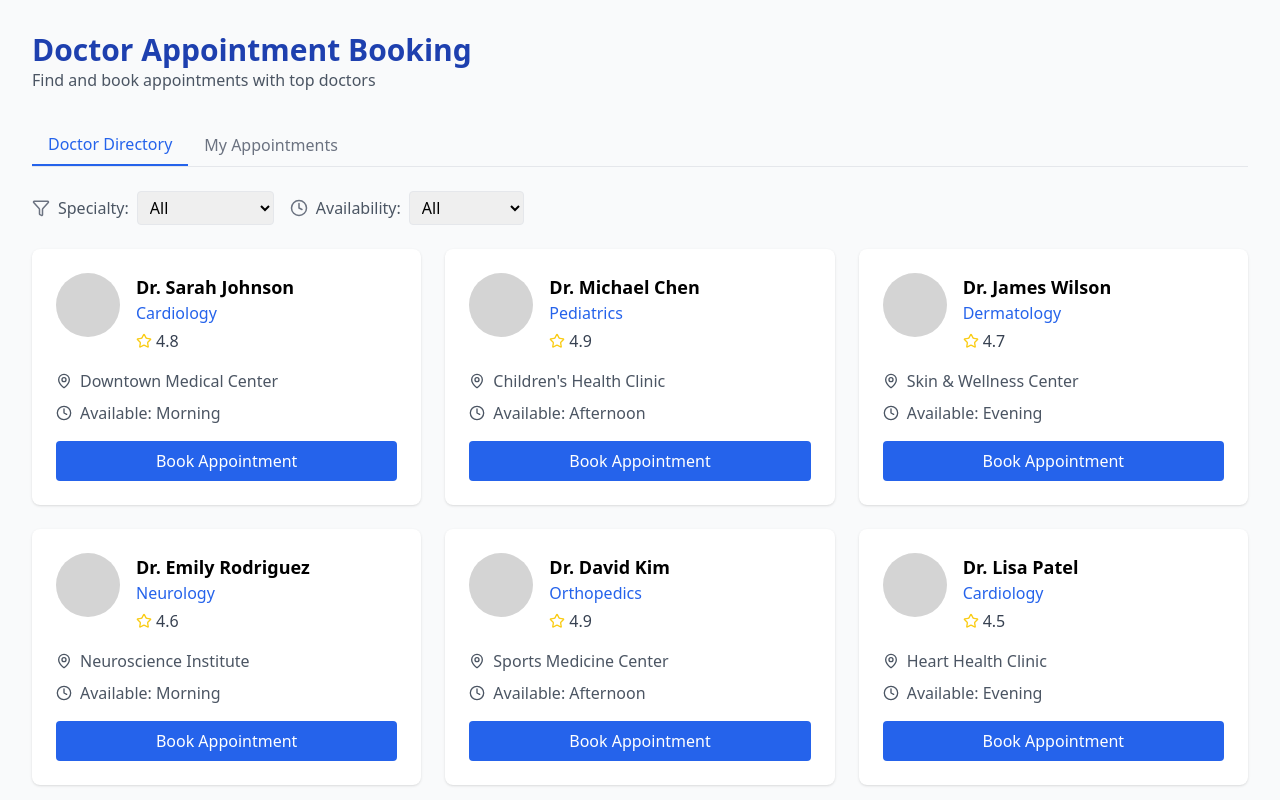
Test case: Doctor Appointment Booking App with Enhanced Zustand Store › Component Integration with Store › should handle the complete appointment booking flow
The image size is (1280, 800).
// Book with Dr. Sarah Johnson
Click the button with aria-label "book appointment with": (227, 461) [56, 441, 397, 481]
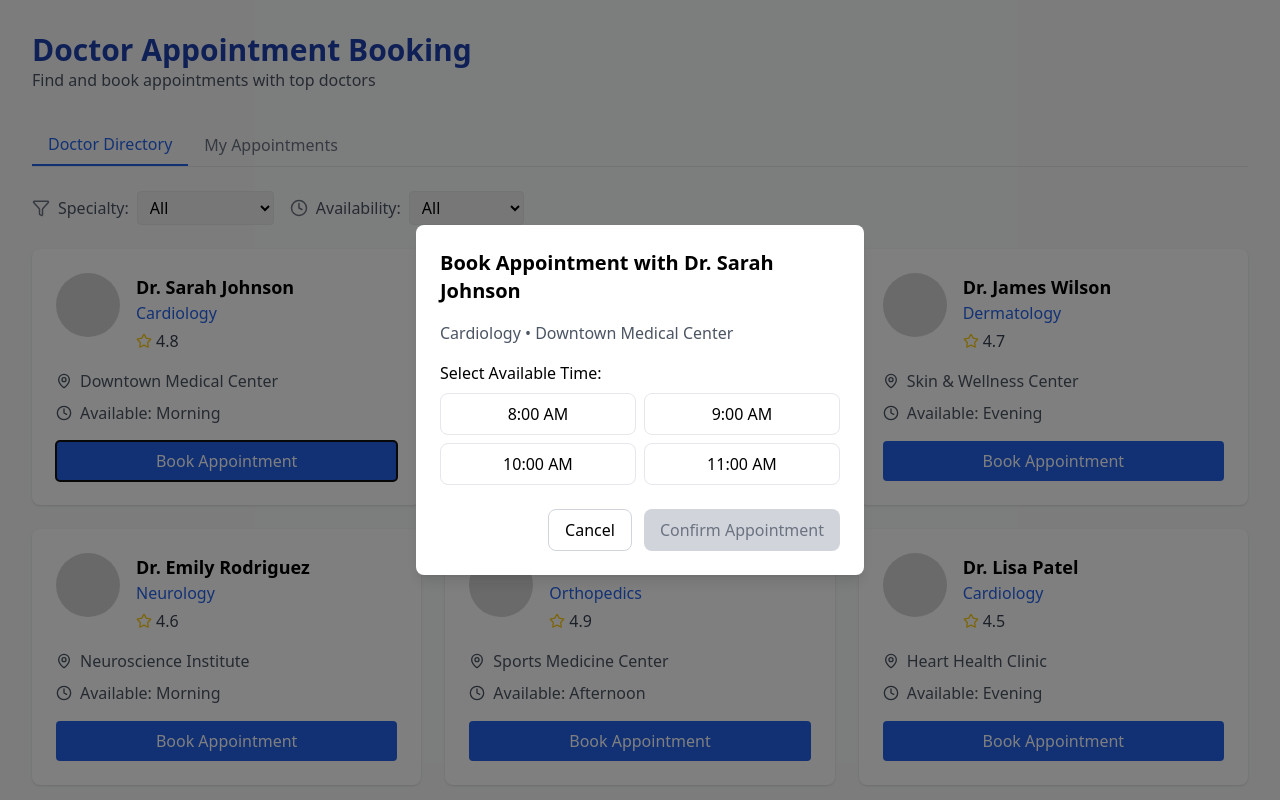
Expected: the dialog is shown, [416, 225, 864, 575]
// Select a time slot
Click the button "9:00 AM": (742, 414) [644, 393, 840, 435]
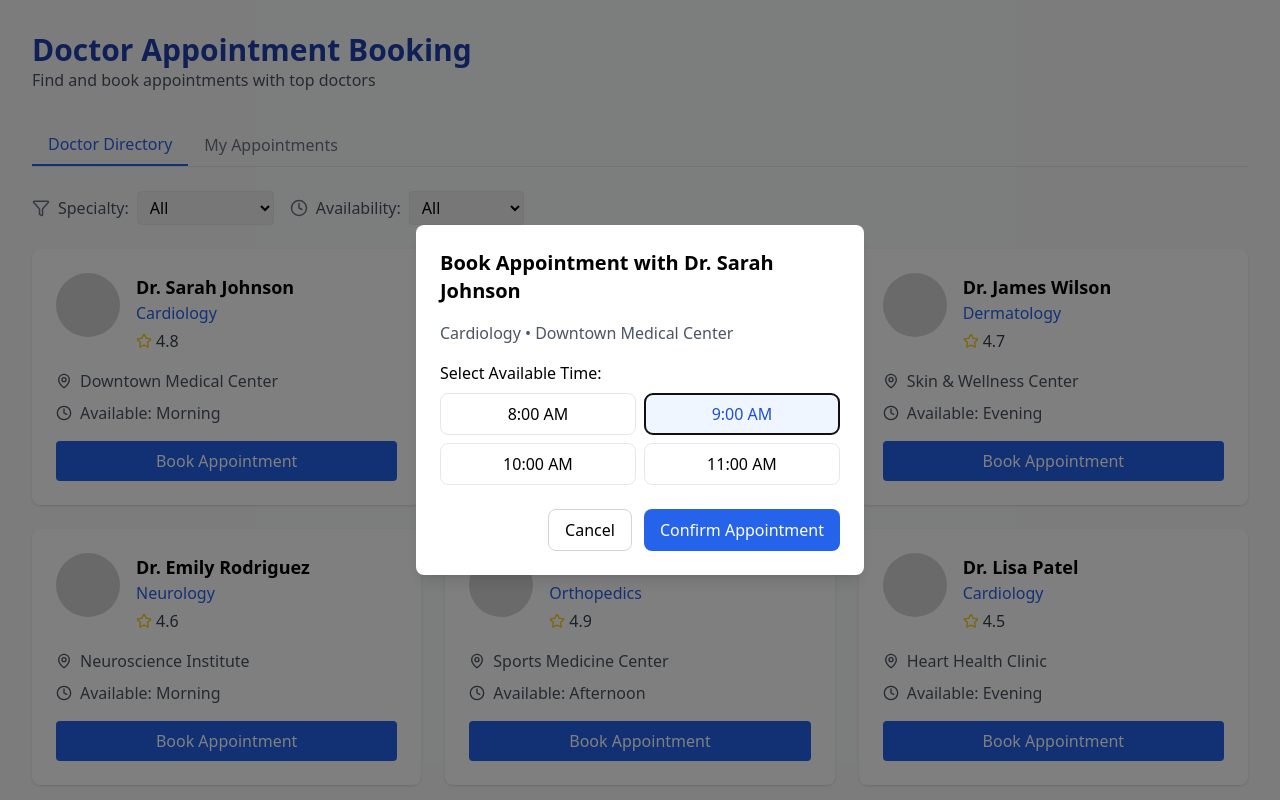
// Confirm appointment
Click the button "Confirm Appointment": (742, 530) [644, 509, 840, 551]
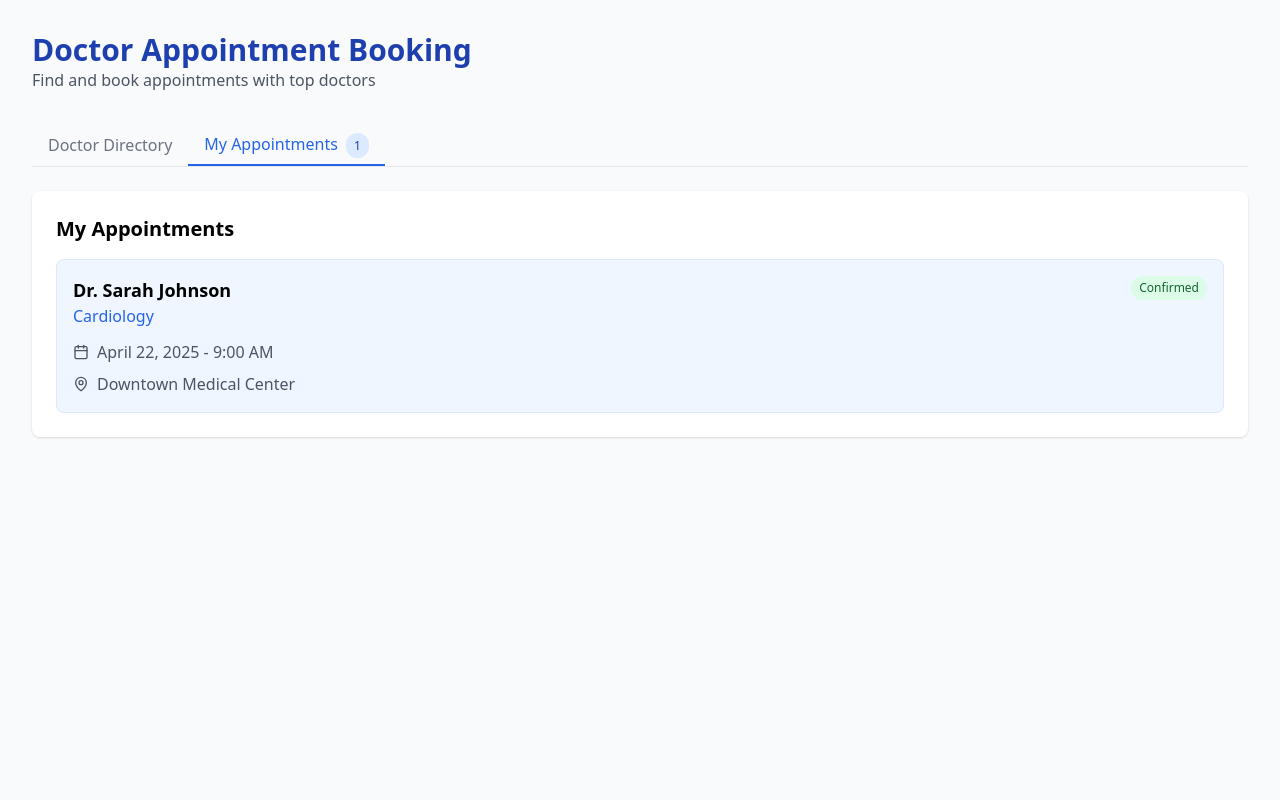
Expected: the heading "Dr. Sarah Johnson" is shown, [73, 276, 231, 304]
Expected: the text "April 22, 2025 - 9:00 AM" is shown, [97, 340, 274, 364]
